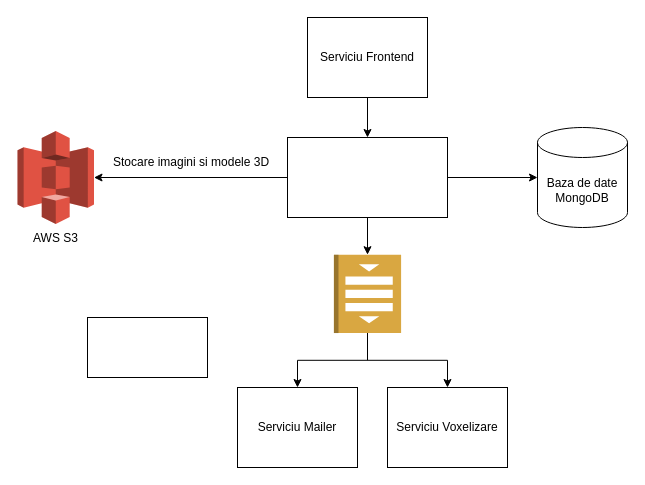
Image size: 645x485. Some labels were removed from this diagram. Here are the shapes that lost their labels. From the top down, the centre of each, then its label:
point (367, 177): Serviciu Gestiune Utilizatori, Produse si Comenzi
point (367, 293): RabbitMQ
